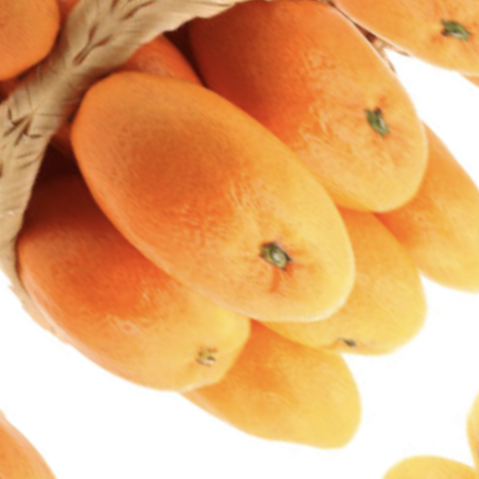orange: (25, 22, 410, 390), (0, 140, 299, 475), (131, 0, 479, 262)
